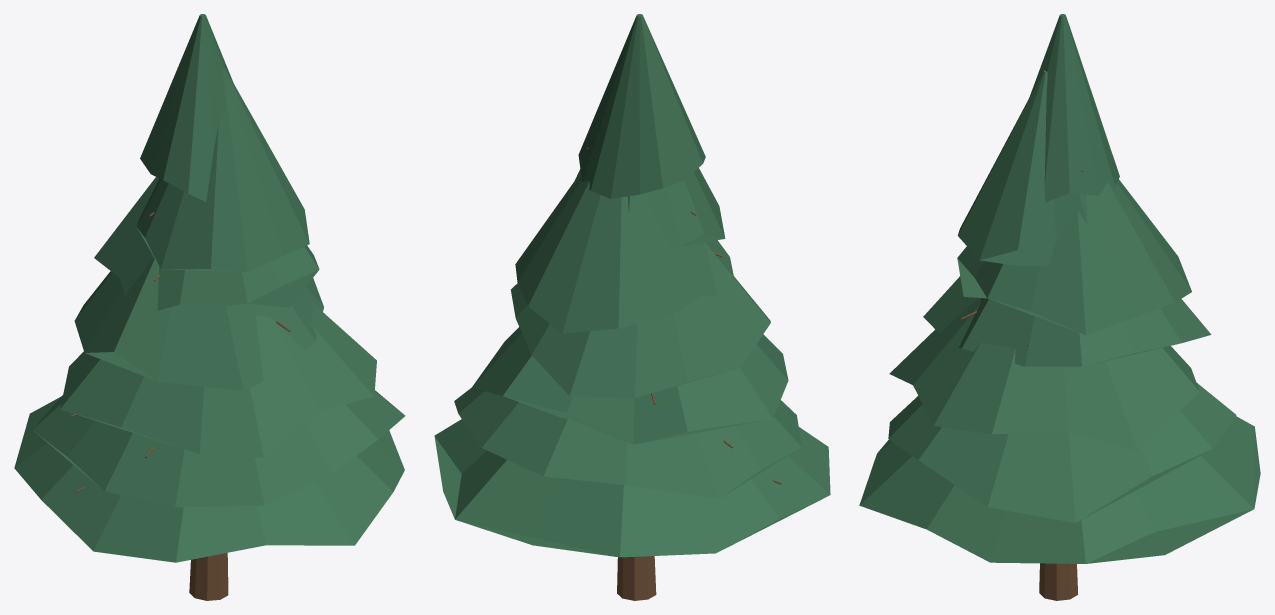
The model's file is pine-3.glb.
3 views of the same model, side by side, from view 1: azimuth 30°, elevation 25°; view 2: azimuth 150°, elevation 25°; view 3: azimuth 270°, elevation 25° (orthographic).
Parts seen in each view (by area): view 1: pine-3; view 2: pine-3; view 3: pine-3.
Boxes of the visible parts, <box> form: pine-3: <box>14,14,405,600</box>; pine-3: <box>434,14,830,600</box>; pine-3: <box>859,14,1260,600</box>.
Bounding box in the file's own units: 3.76 × 6.05 × 3.83.
